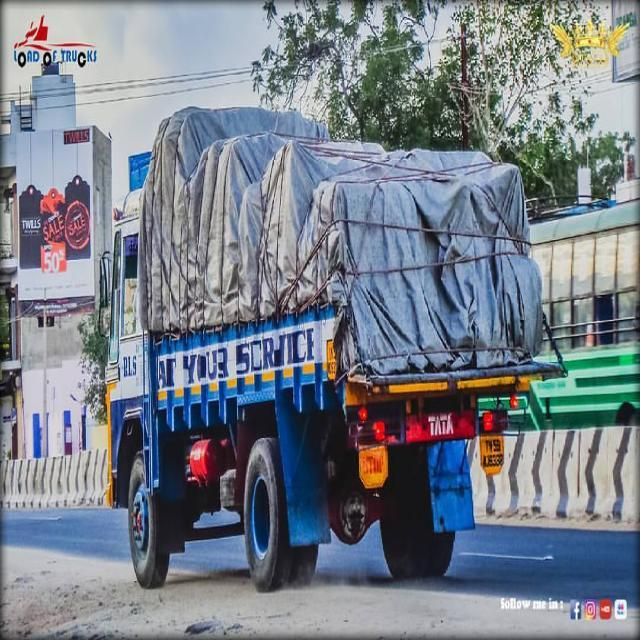Truck: (95, 104, 568, 614)
